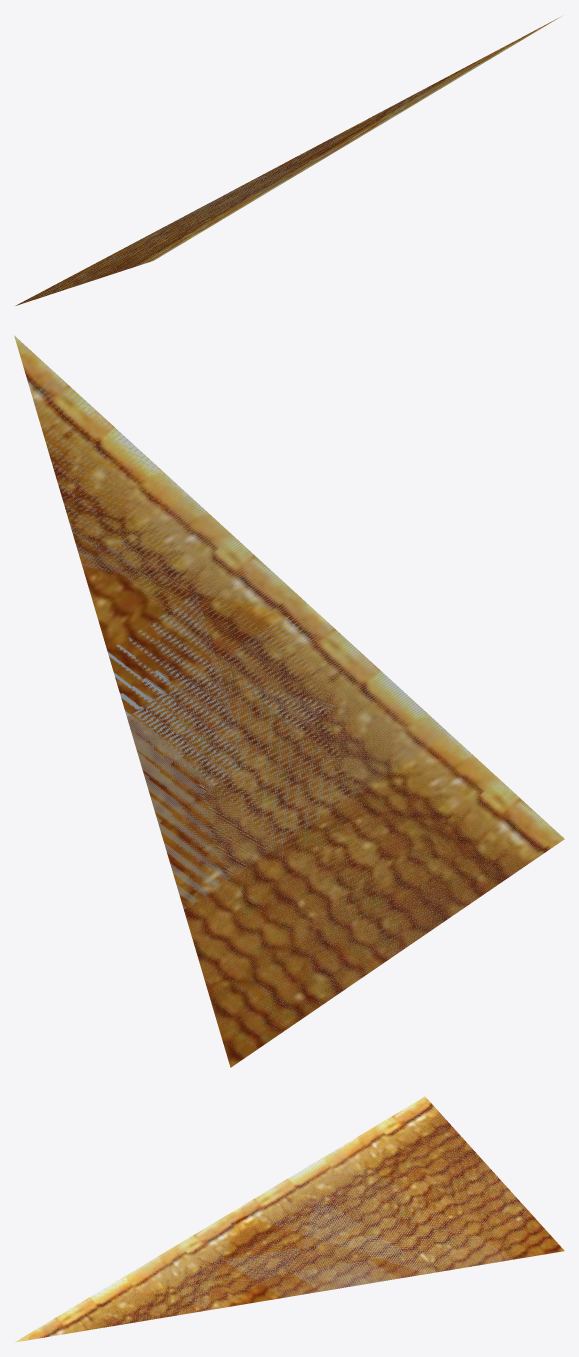
The model's file is 西庸城堡530.dae.
The picture shows the model from 3 angles, top to bottom: view 1: azimuth 90°, elevation 25°; view 2: azimuth 150°, elevation 25°; view 3: azimuth 270°, elevation 25°; orthographic projection. The views are drawn at different scales.
Parts seen in each view (by area): view 1: SketchUp; view 2: SketchUp; view 3: SketchUp.
Boxes of the visible parts, <box> form: SketchUp: <box>15,16,561,305</box>; SketchUp: <box>14,335,564,1067</box>; SketchUp: <box>14,1096,564,1342</box>.
Size of the model in its own units: 207 by 196 by 39.37.
